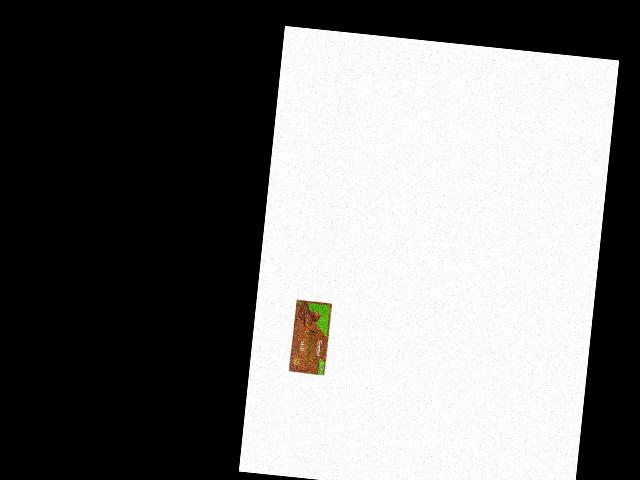chocolate: (285, 298, 333, 378)
